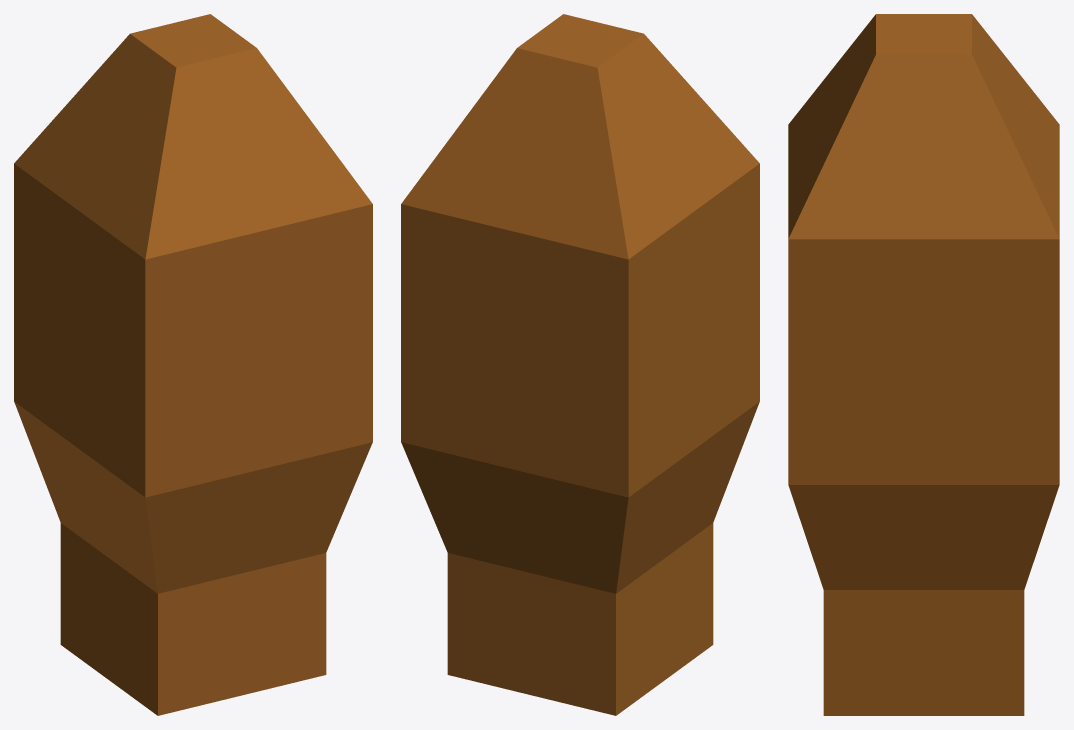
File: fencepost.dae
The picture shows the model from 3 angles, left to right: view 1: azimuth 30°, elevation 25°; view 2: azimuth 150°, elevation 25°; view 3: azimuth 270°, elevation 25°; orthographic projection. The views are drawn at different scales.
Parts seen in each view (by area): view 1: Cube_002; view 2: Cube_002; view 3: Cube_002.
Part boxes in pixels (x1,y1,x2,y2): Cube_002: (14,14,372,715); Cube_002: (401,14,759,715); Cube_002: (788,14,1059,715).
Size of the model in its own units: 1 by 1 by 2.6.
